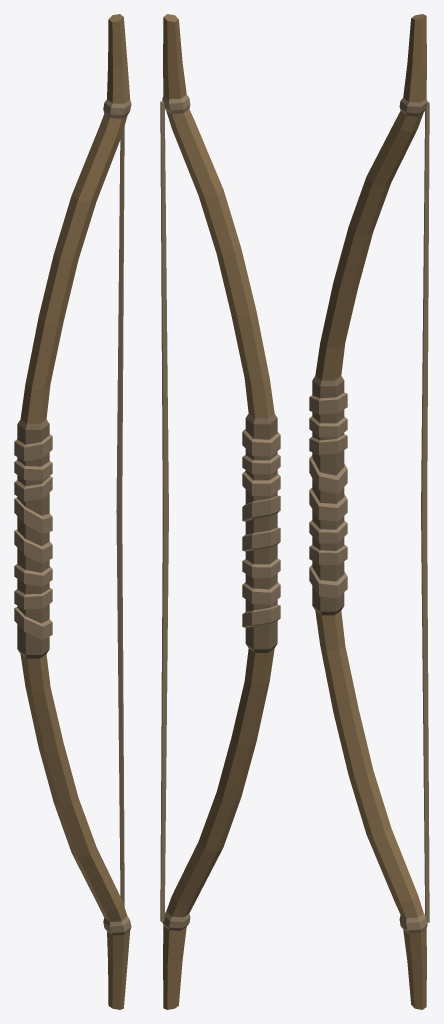
File: SM_pwe_slavic_bow_04.fbx
The picture shows the model from 3 angles, left to right: view 1: azimuth 30°, elevation 25°; view 2: azimuth 150°, elevation 25°; view 3: azimuth 330°, elevation 25°; orthographic projection.
Visible parts, largest first — view 1: SM_pwe_slavic_bow_04; view 2: SM_pwe_slavic_bow_04; view 3: SM_pwe_slavic_bow_04.
Part boxes in pixels (x1,y1,x2,y2): SM_pwe_slavic_bow_04: (14,14,131,1009); SM_pwe_slavic_bow_04: (160,14,280,1009); SM_pwe_slavic_bow_04: (309,14,429,1009).
Size of the model in its own units: 11.64 by 99.71 by 3.48.
